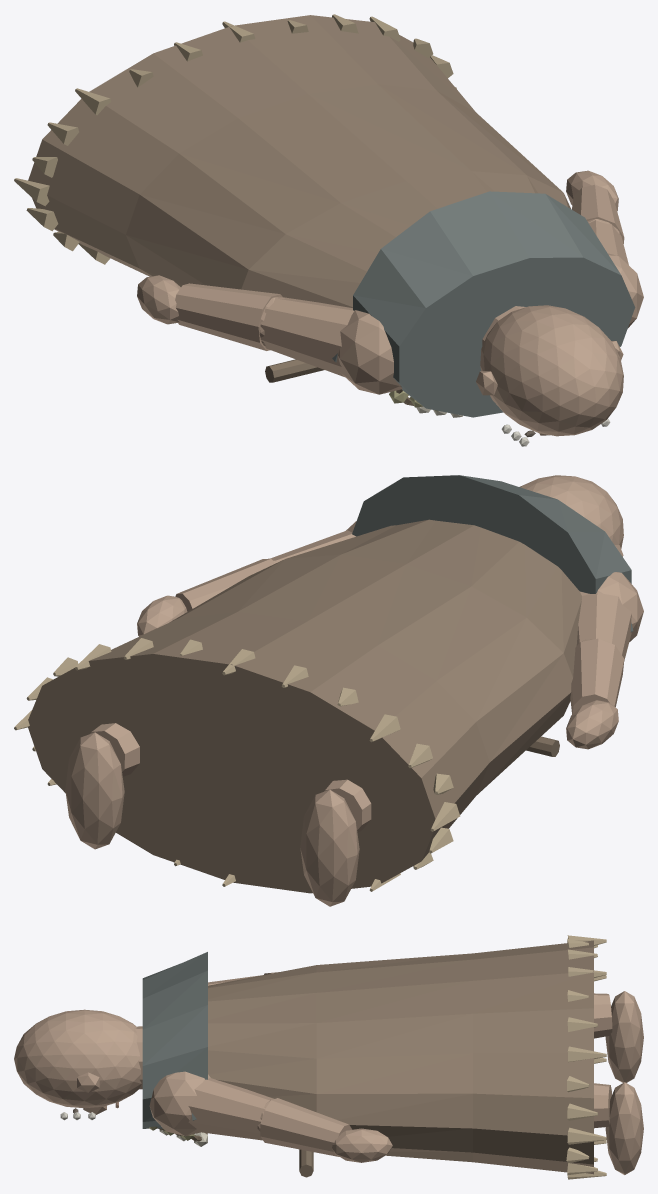
Rendered from woman_stocky__shaman.glb.
3 views of the same model, one above another, from view 1: azimuth 30°, elevation 25°; view 2: azimuth 150°, elevation 25°; view 3: azimuth 270°, elevation 25° (orthographic). The views are drawn at different scales.
Parts seen in each view (by area): view 1: part_027, part_055, part_010, part_018, part_020, part_017, part_021, part_025, part_026, part_022, part_028, part_023; view 2: part_027, part_055, part_003, part_007, part_020, part_010, part_018, part_021, part_025, part_006, part_017, part_026 (+2 smaller); view 3: part_027, part_010, part_055, part_023, part_025, part_007, part_003, part_022, part_026, part_002, part_006, part_031 (+3 smaller).
Part boxes in pixels (x1,y1,x2,y2): part_027: (28,15,570,307); part_055: (353,191,635,417); part_010: (480,305,623,436); part_018: (260,297,354,376); part_020: (175,283,282,350); part_017: (338,310,402,394); part_021: (137,275,180,324); part_025: (572,184,624,243); part_026: (566,170,618,210); part_022: (608,253,643,327); part_028: (265,359,323,382); part_023: (589,220,628,264); part_027: (28,519,581,893); part_055: (352,475,631,593); part_003: (300,789,359,906); part_007: (65,732,124,849); part_020: (570,638,624,714); part_010: (520,475,623,548); part_018: (576,592,631,661); part_021: (566,700,618,749); part_025: (175,558,275,611); part_006: (90,723,139,776); part_017: (580,572,643,641); part_026: (137,595,187,636); part_027: (208,940,593,1174); part_010: (14,1009,141,1108); part_055: (142,952,207,1128); part_023: (188,1078,273,1140); part_025: (260,1098,351,1156); part_007: (605,1082,643,1174); part_003: (605,991,643,1082); part_022: (149,1071,210,1136); part_026: (332,1128,392,1162); part_002: (594,993,612,1038); part_006: (594,1083,611,1128); part_031: (567,1127,606,1144).
Bounding box in the file's own units: 1.61 × 0.7627 × 2.37.
